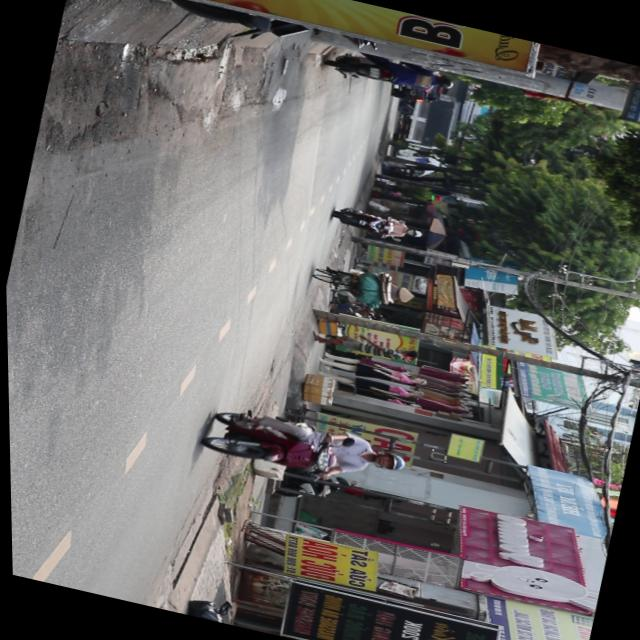helmet: (366, 449, 406, 474)
licenseplate: (193, 396, 411, 499)
